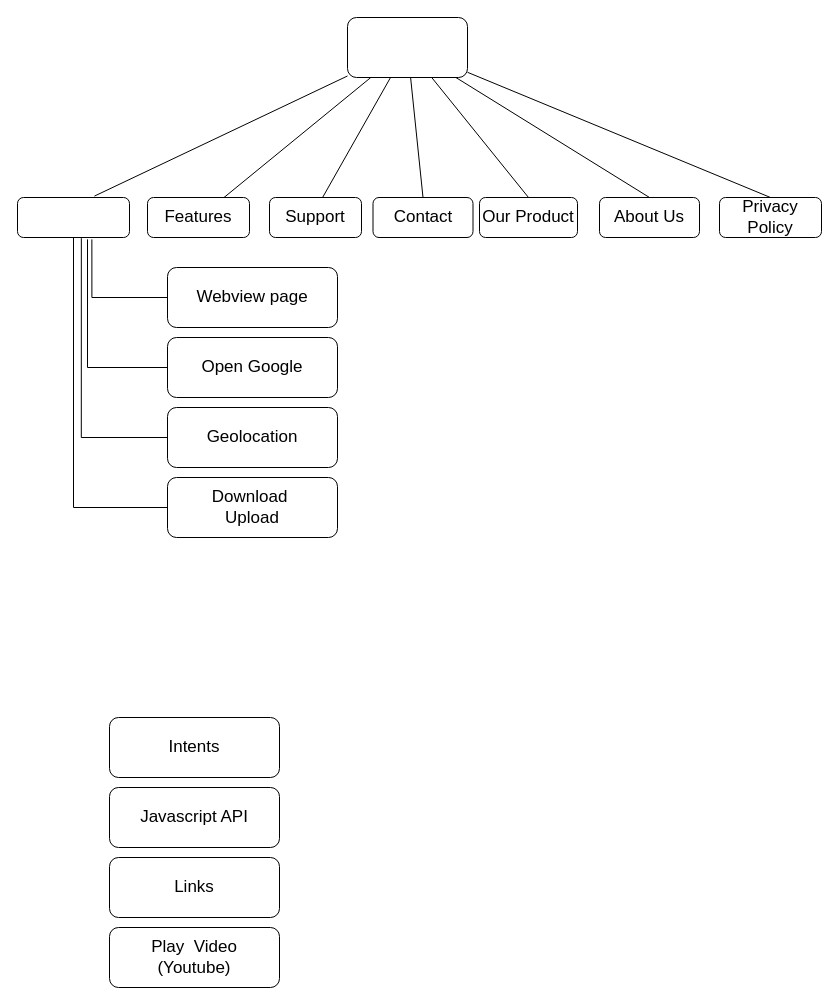
The diagram is 839 pixels wide and 1005 high, and some of its shapes have lost their labels. The centre of each missing label's shape, as x and y in pixels:
"Home" belongs at point 73,217.
"Splash" belongs at point 407,47.
